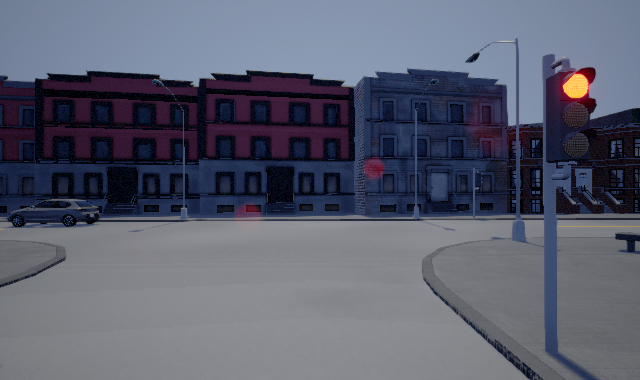traffic_light: (546, 66, 597, 161)
vehicle: (7, 199, 100, 227)
